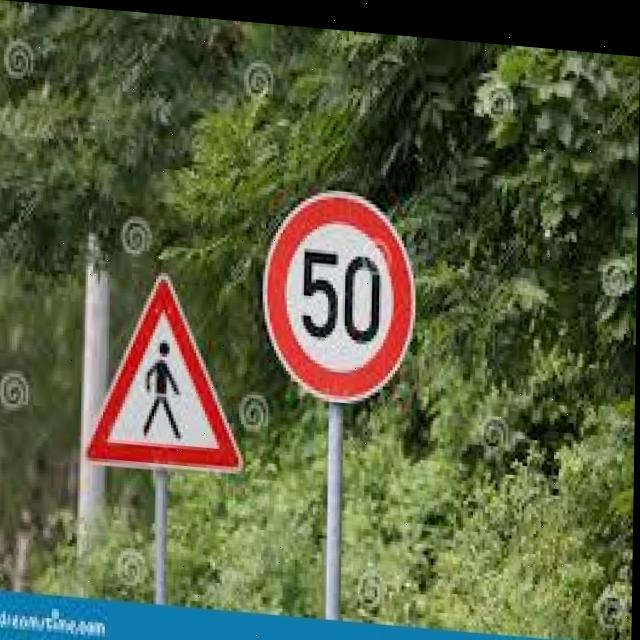Speed limit 50: (261, 177, 419, 406)
